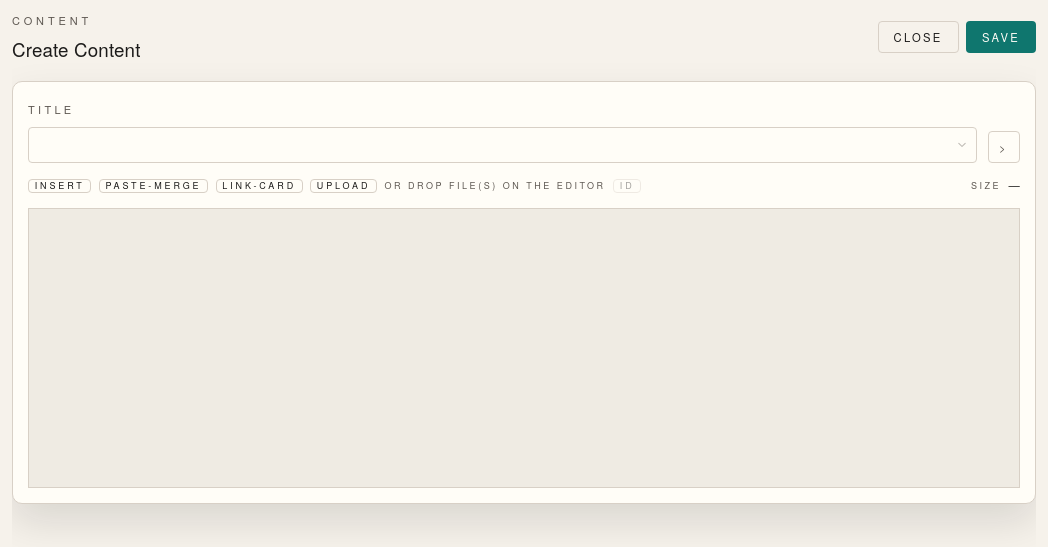
Test: ContentEditorView › disables insert-title until the markdown title field has text
Expected: the button named "Insert title to page" is disabled, [950, 134, 973, 156]
Type "Getting Started" into the field labelled "Title" at (502, 145), box [28, 127, 977, 163]
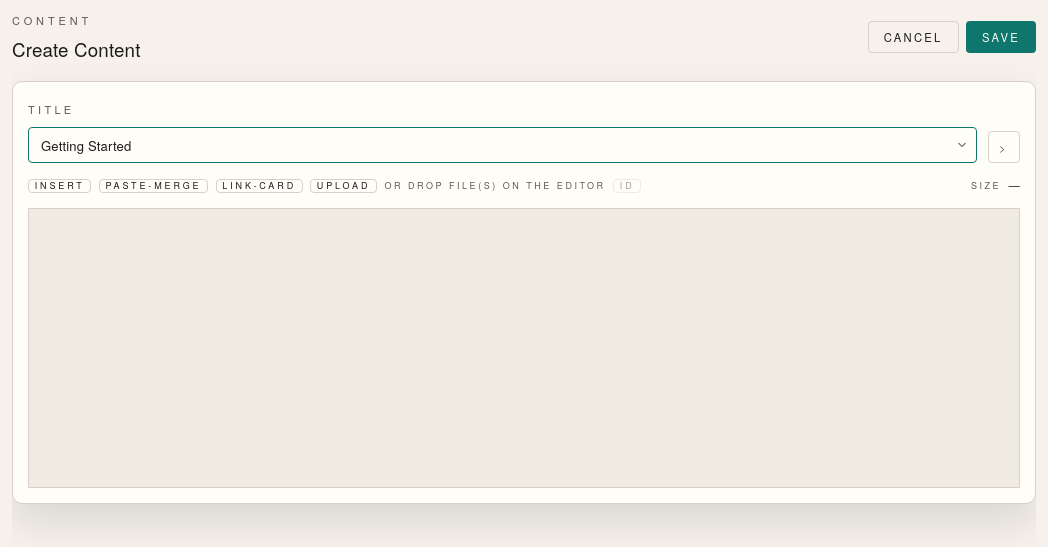
Now the button named "Insert title to page" is enabled, box [950, 134, 973, 156]
